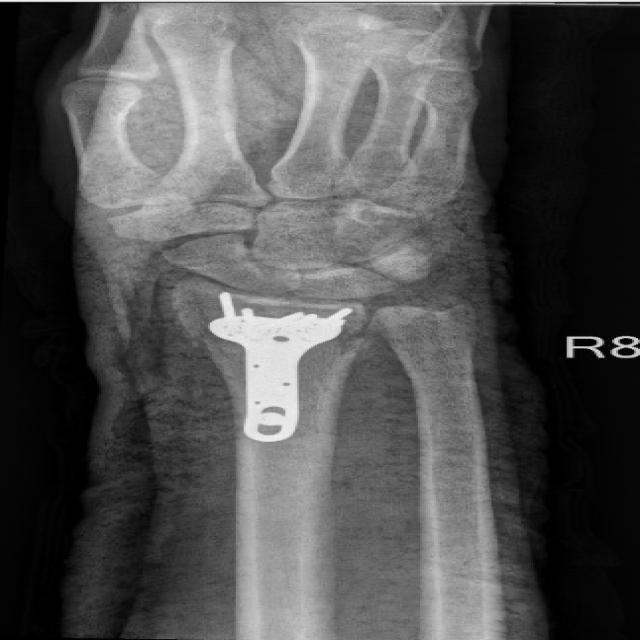x-ray: (210, 291, 367, 447)
